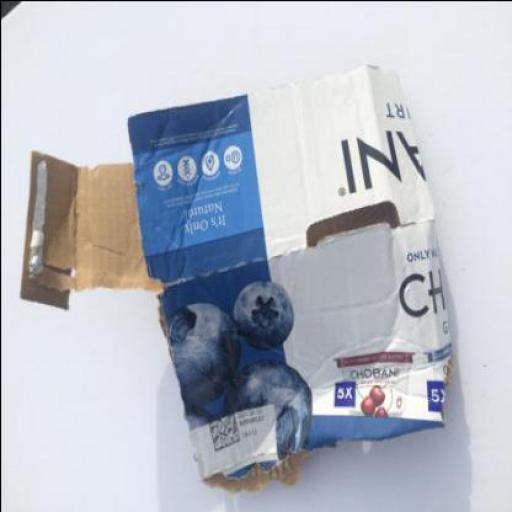cardboard: (17, 64, 453, 492)
